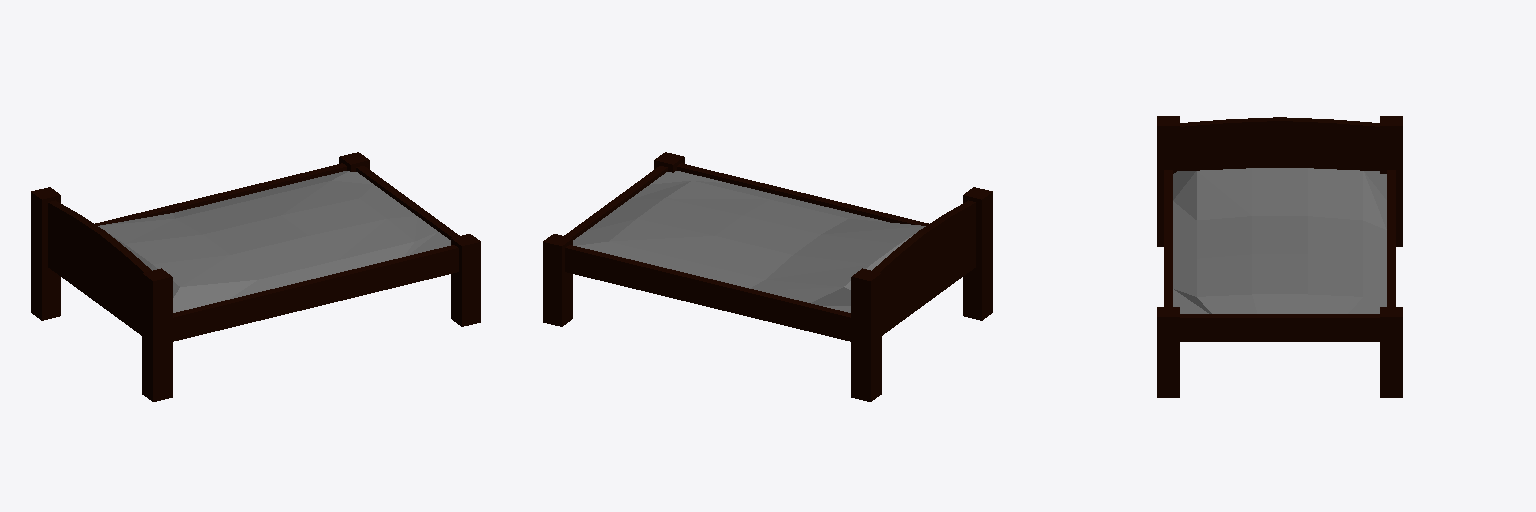
Rendered from bed.obj.
3 views of the same model, side by side, from view 1: azimuth 30°, elevation 25°; view 2: azimuth 150°, elevation 25°; view 3: azimuth 270°, elevation 25° (orthographic).
Visible parts, largest first — view 1: Cube; view 2: Cube; view 3: Cube.
Part boxes in pixels (left/top/right/bottom): Cube: left=31, top=152, right=480, bottom=401; Cube: left=543, top=152, right=992, bottom=401; Cube: left=1157, top=116, right=1402, bottom=397.
Size of the model in its own units: 8.5 by 3.05 by 5.5.